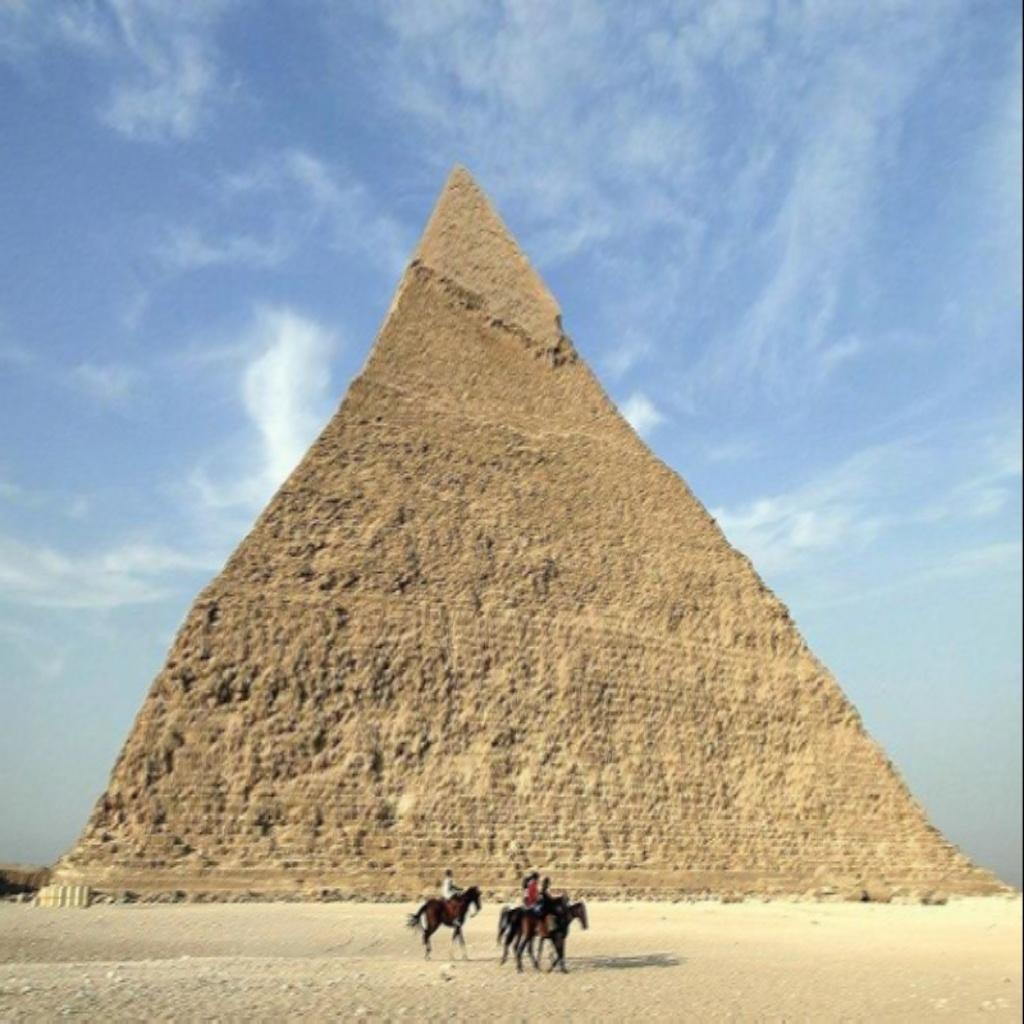Great Pyramids of Giza: (40, 152, 1008, 903)
